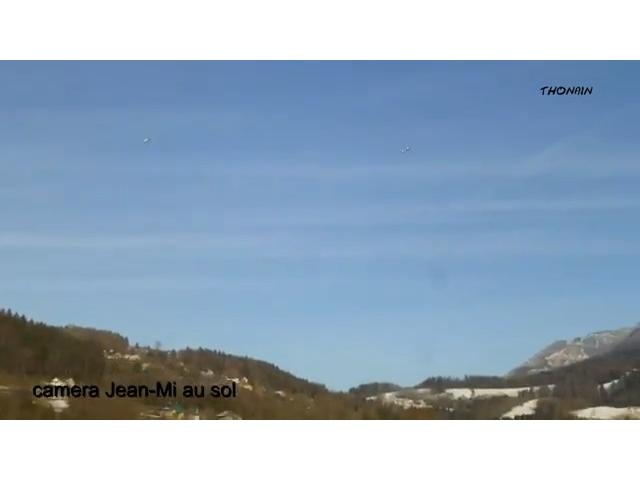Anti-Drone: (394, 140, 420, 164), (134, 132, 160, 146)
